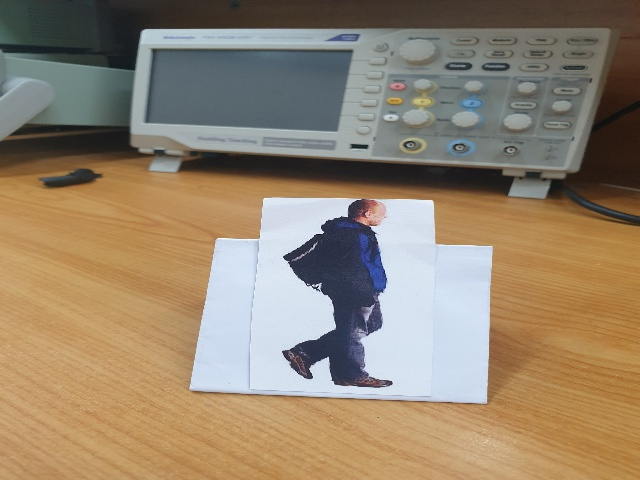Person: (280, 199, 406, 391)
